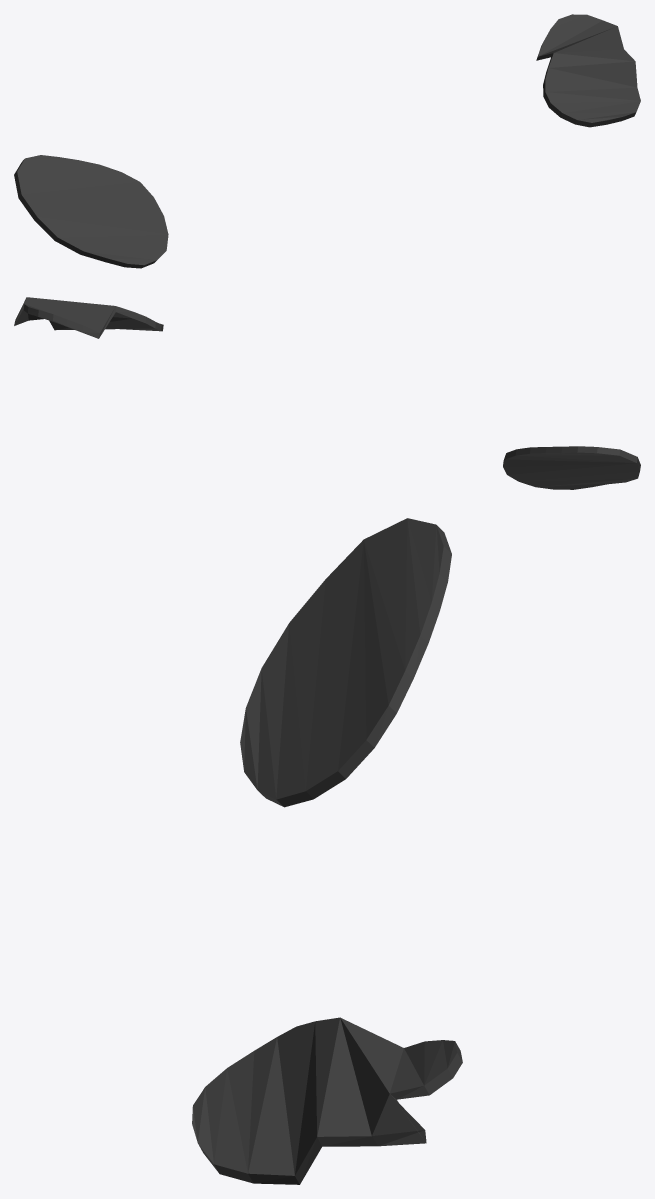
The model's file is c6_transverse_foramen.glb.
3 renders of one model, top to bottom at view 1: azimuth 30°, elevation 25°; view 2: azimuth 150°, elevation 25°; view 3: azimuth 270°, elevation 25°, orthographic. The views are drawn at different scales.
Visible parts, largest first — view 1: c6_transverse_foramen; view 2: c6_transverse_foramen; view 3: c6_transverse_foramen.
Boxes of the visible parts, x1=… form: c6_transverse_foramen: x1=14, y1=14, x2=640, y2=268; c6_transverse_foramen: x1=14, y1=297, x2=640, y2=489; c6_transverse_foramen: x1=192, y1=518, x2=462, y2=1184.
Size of the model in its own units: 23.73 by 3.74 by 4.58.
Materials: 1 (1 with a texture image).
